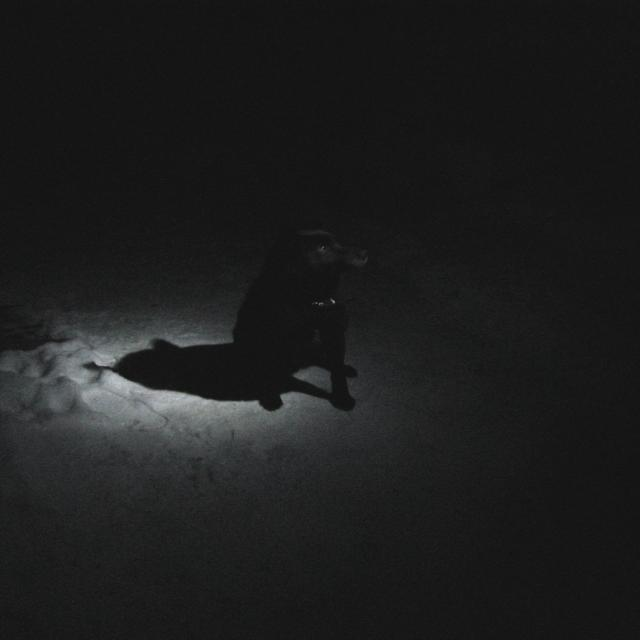Dog: (172, 226, 446, 416)
